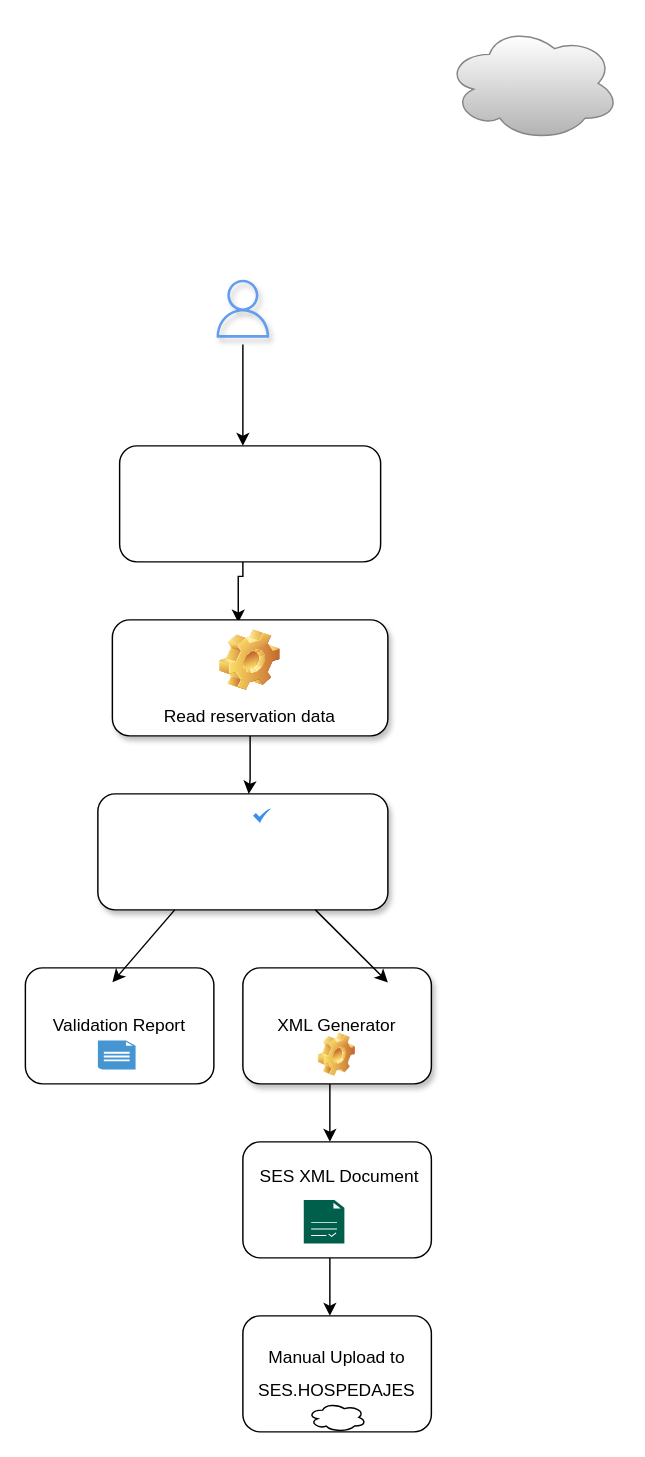
Image size: 645x1457. Some labels were removed from this diagram. The centre of each missing label's shape, as x and y in pixels:
"Data Validator: - Mandatory fields - Format validation - Business rules" belongs at point 244,853.
"Excel Reservation File" belongs at point 249,503.
